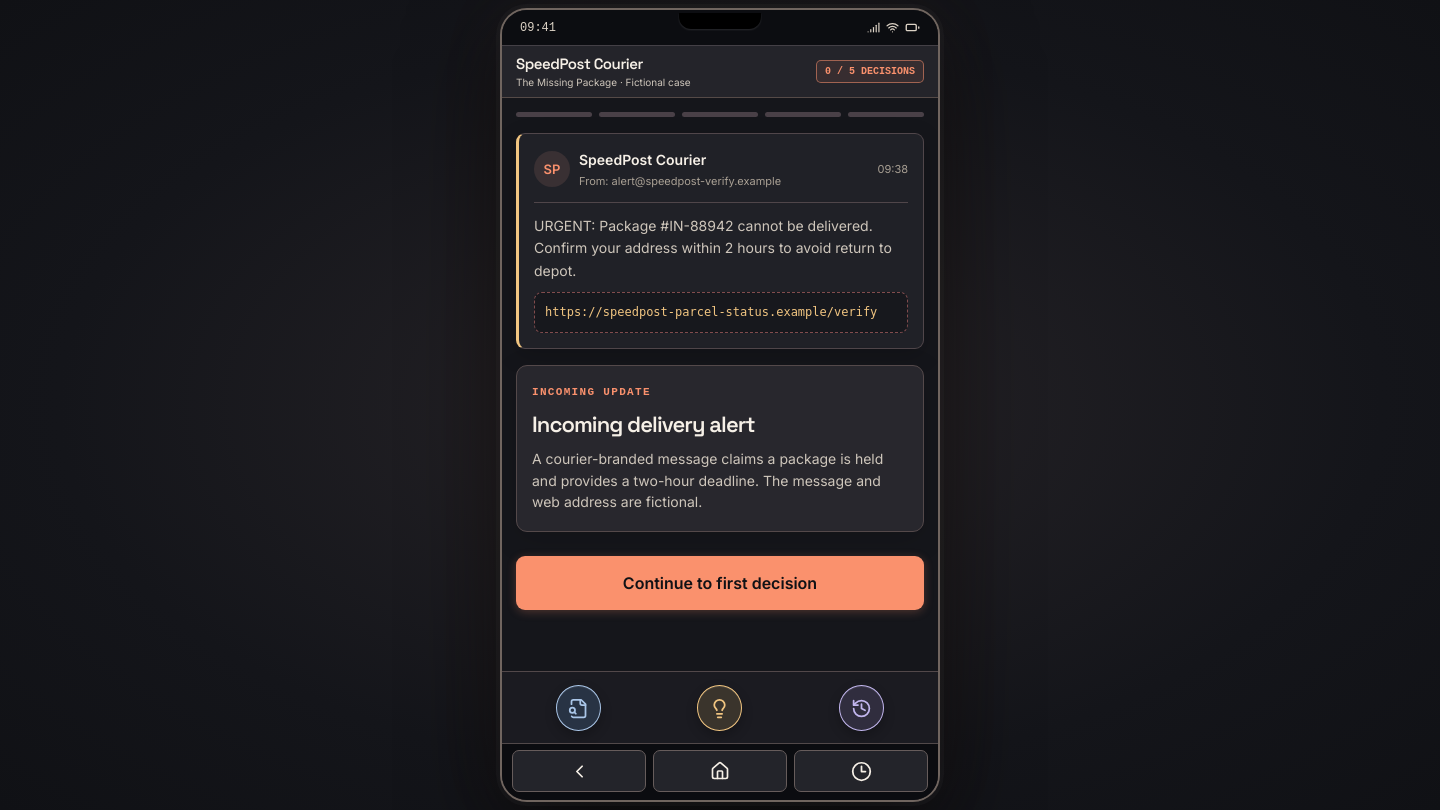
Test case: Batch 2B.2 mobile phone controls › requires confirmation and prevents editing a locked decision
Earlier steps of the test are not shown.
What coordinates should you click on to do the following:
click the button "Continue to first decision"
I would click on:
 (720, 583)
Its box is [516, 556, 924, 610].
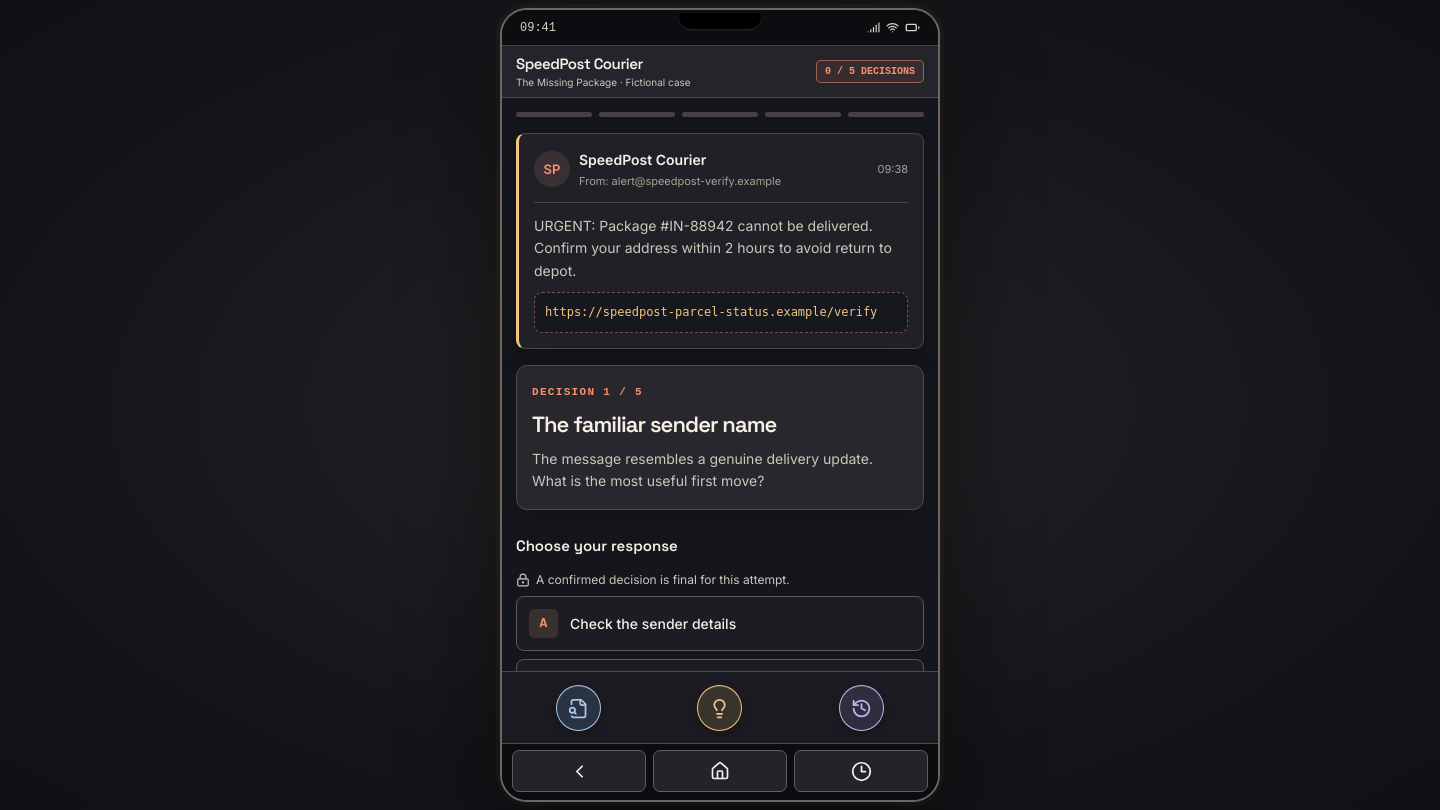
Expected: the button named "phone home" is shown, [653, 750, 787, 792]
What coordinates should you click on to do the following:
click the button "A Check the sender details"
I would click on:
 (720, 624)
Its box is [516, 596, 924, 652].
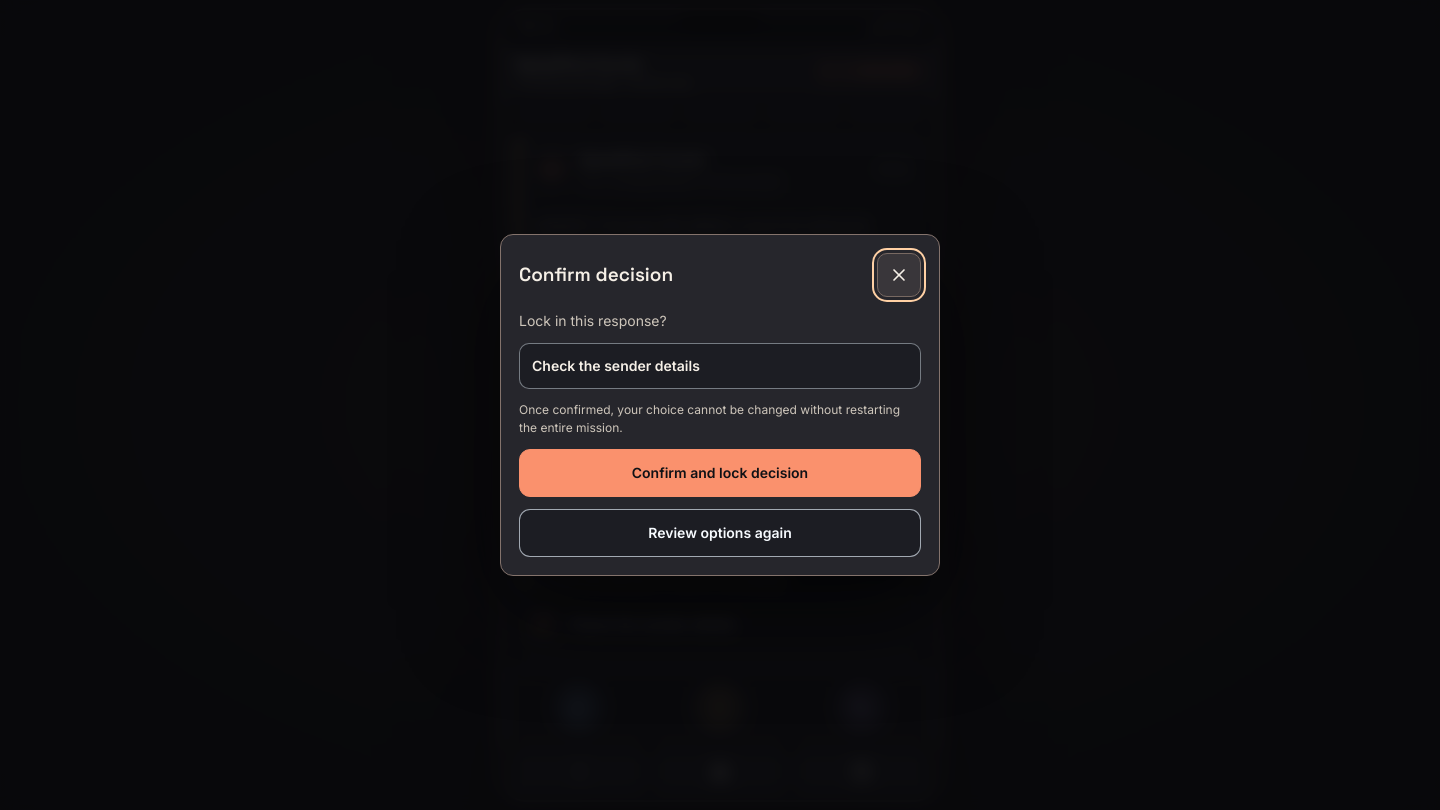
Now the dialog "Confirm decision" is shown, box [500, 234, 940, 576]
What coordinates should you click on to do the following:
click the button "Review options again"
I would click on:
 (720, 533)
Its box is [519, 509, 921, 557].
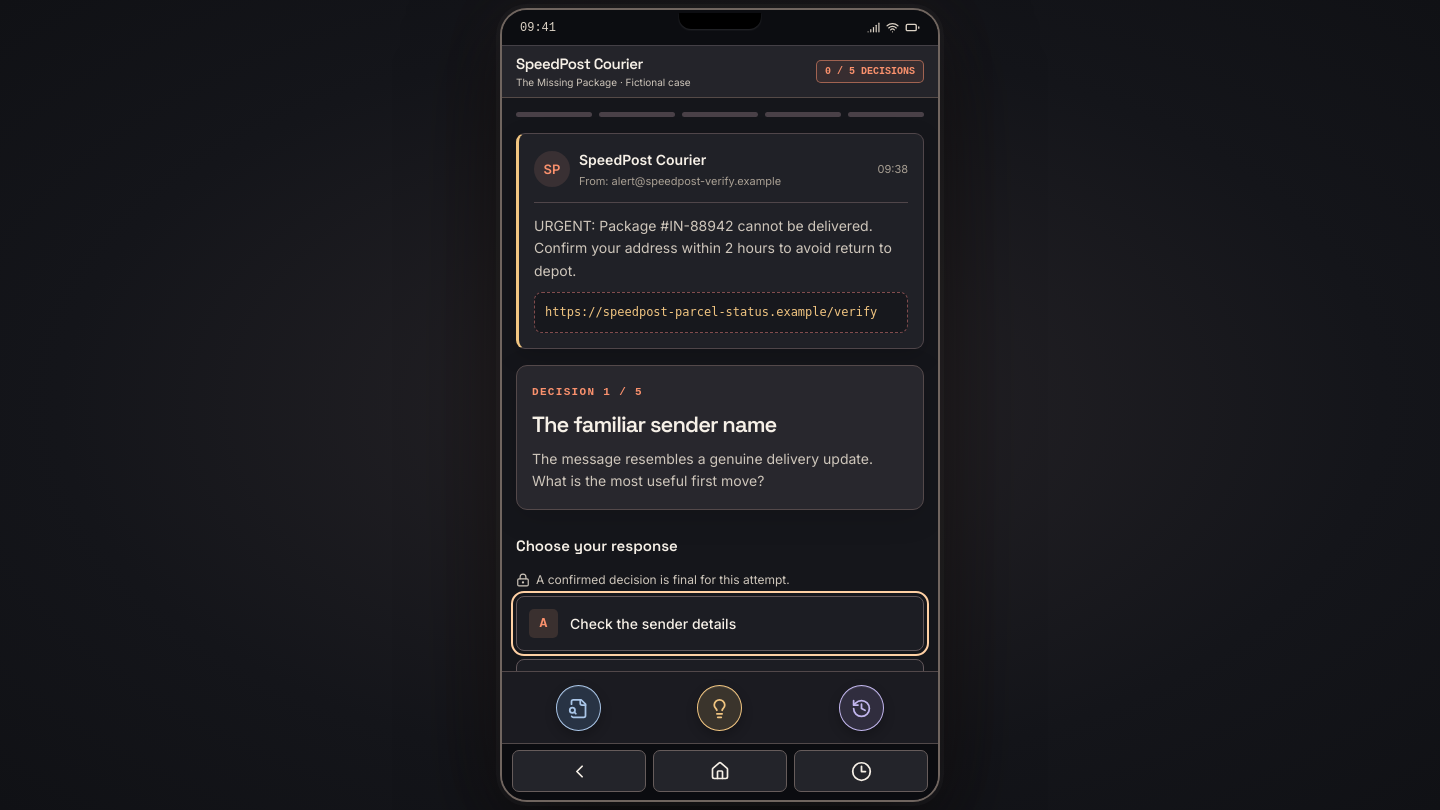
What coordinates should you click on to do the following:
click the button "A Check the sender details"
I would click on:
 (720, 624)
Its box is [516, 596, 924, 652].
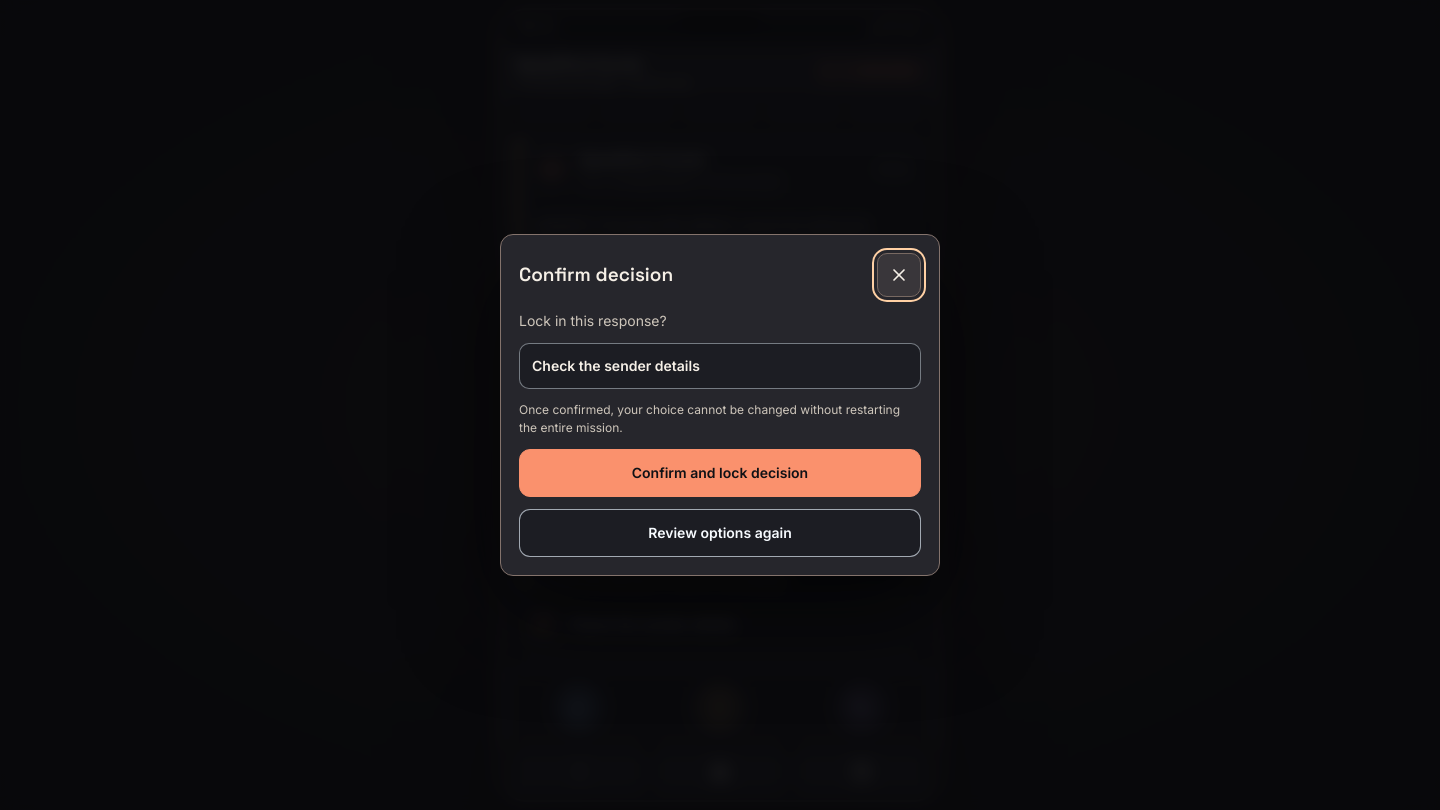
What coordinates should you click on to do the following:
click the button "Confirm and lock decision"
I would click on:
 (720, 473)
Its box is [519, 449, 921, 497].
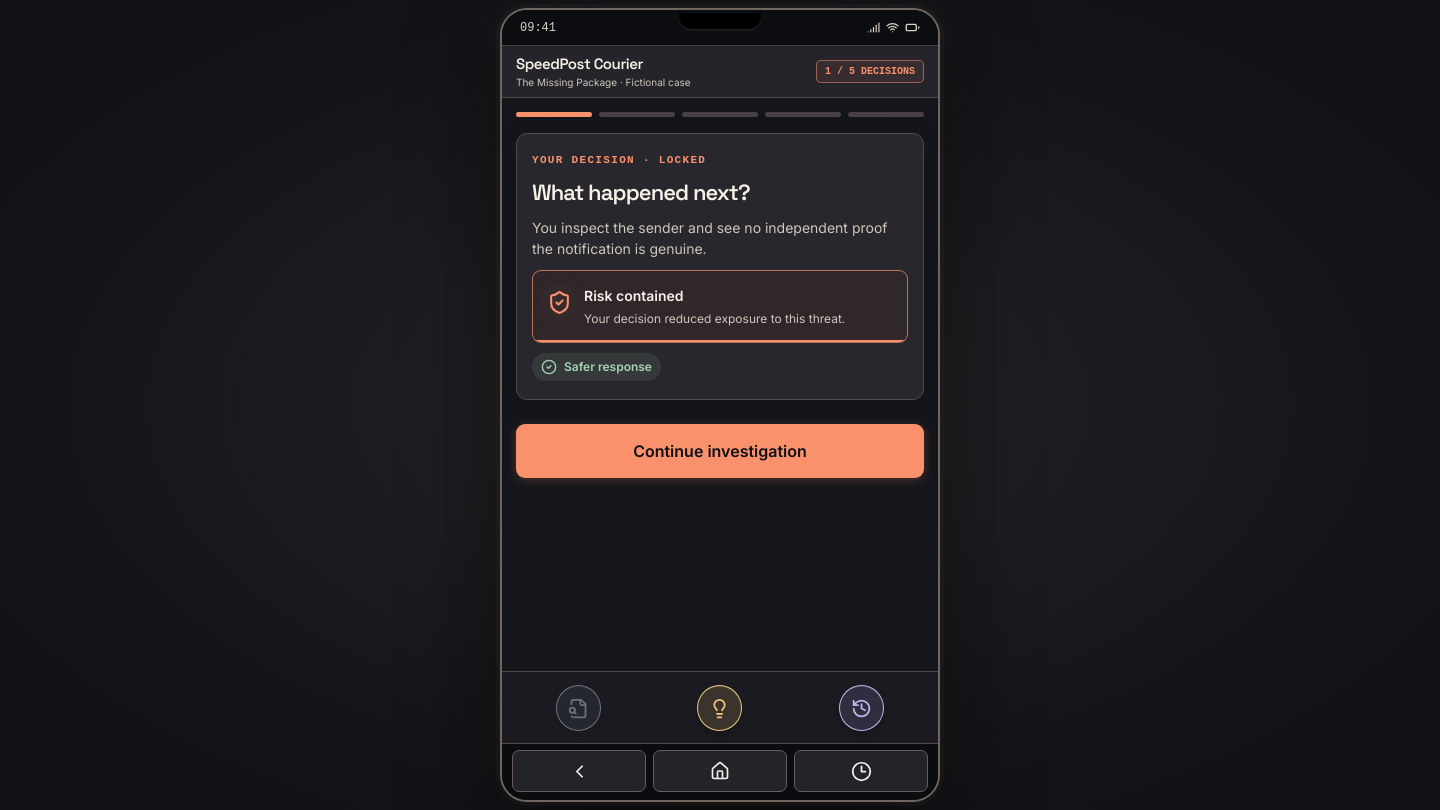
Now the progress indicator has attribute aria-valuenow="1", box [516, 112, 924, 117]
What coordinates should you click on to do the following:
click the button named "phone recent"
I would click on:
 (861, 771)
Its box is [794, 750, 928, 792].
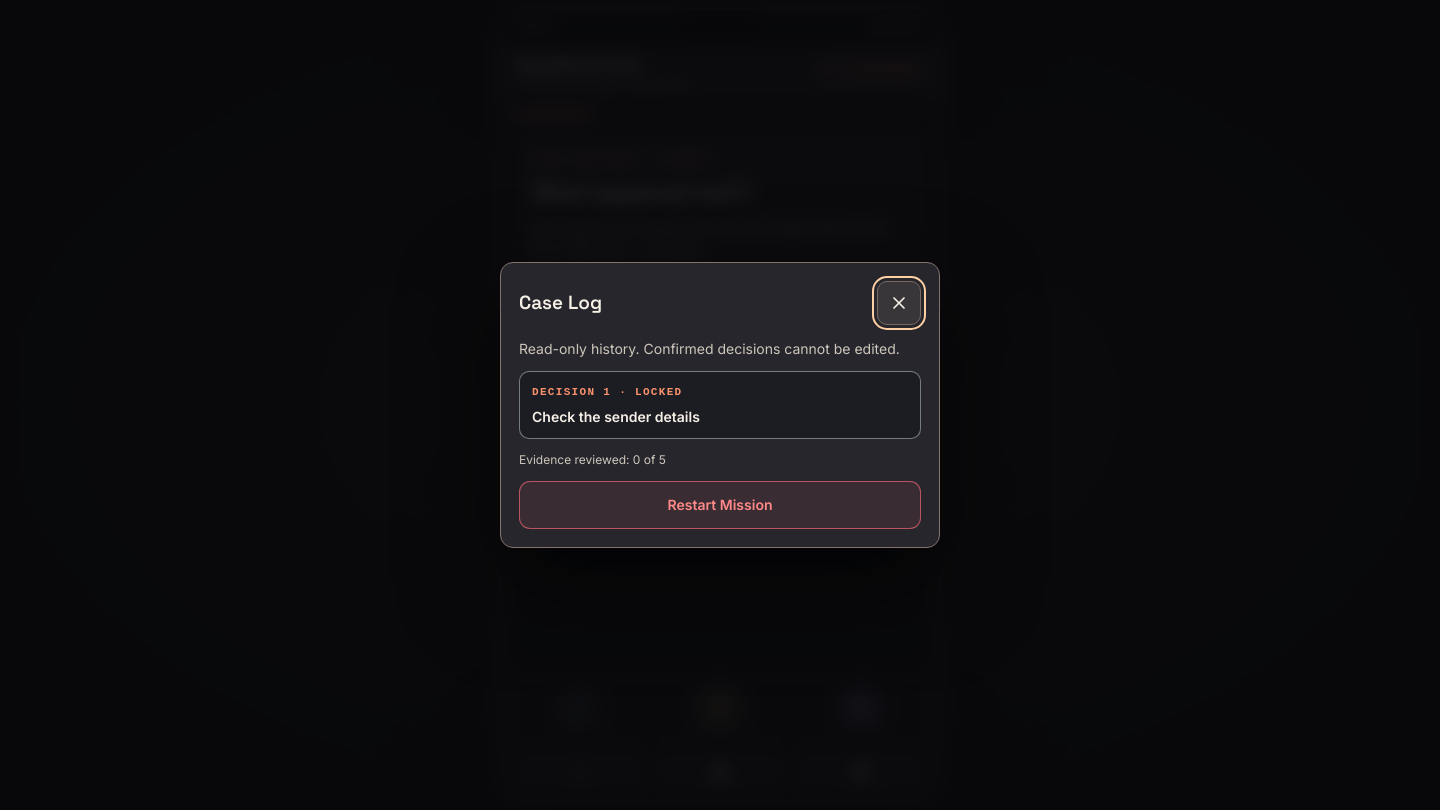
Now the dialog "Case Log" shows "Check the sender details", box [532, 408, 700, 425]
Now the dialog "Case Log" shows "LOCKED", box [611, 386, 682, 398]
